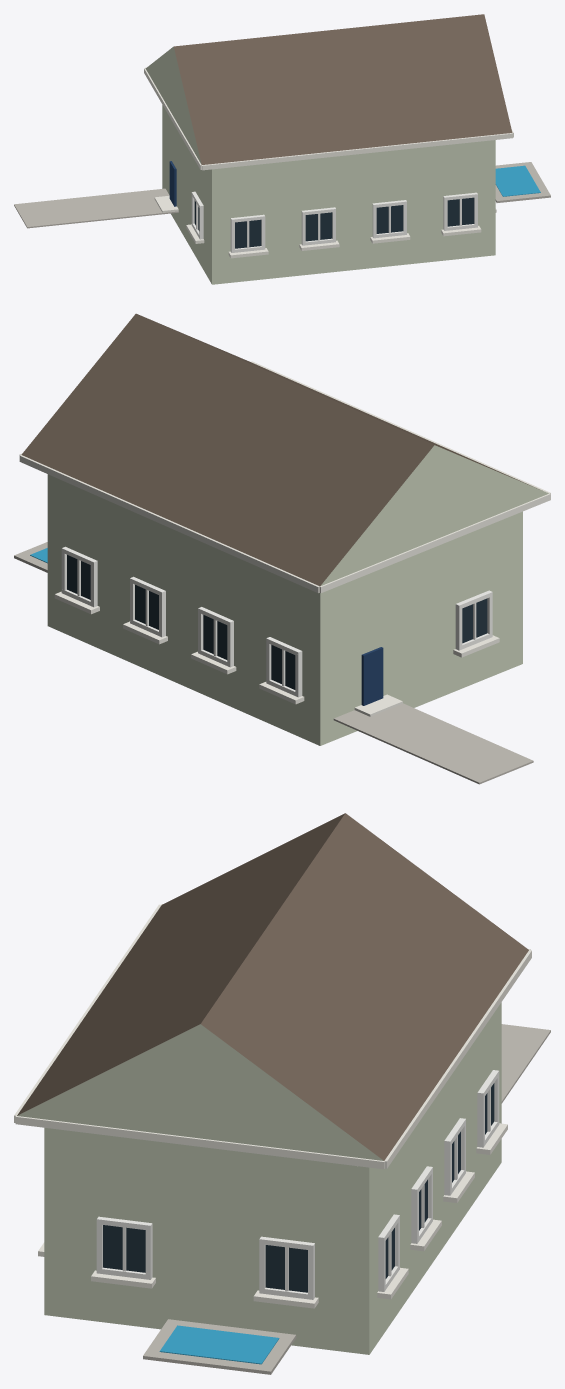
3 renders of one model, top to bottom at view 1: azimuth 30°, elevation 25°; view 2: azimuth 150°, elevation 25°; view 3: azimuth 270°, elevation 25°, orthographic. The views are drawn at different scales.
Visible parts, largest first — view 1: b4169; view 2: b4169; view 3: b4169.
Part boxes in pixels (x1,y1,x2,y2): b4169: [14, 14, 550, 284]; b4169: [14, 313, 550, 784]; b4169: [14, 813, 550, 1374].
Size of the model in its own units: 9209 by 3898 by 5926.
